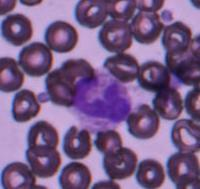N: (70, 67, 132, 132)
